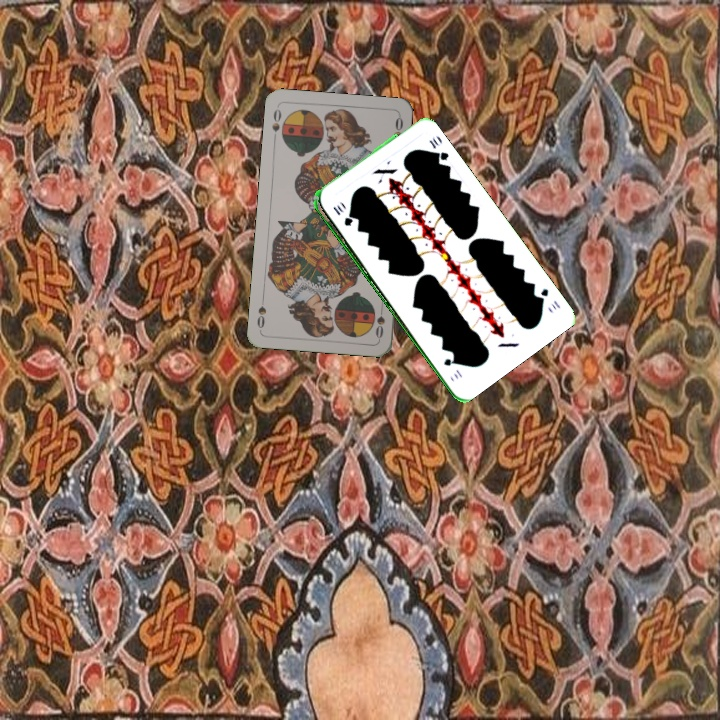G10: (533, 284, 563, 312), (329, 202, 354, 229)
SO: (372, 300, 387, 341), (268, 105, 284, 143)
